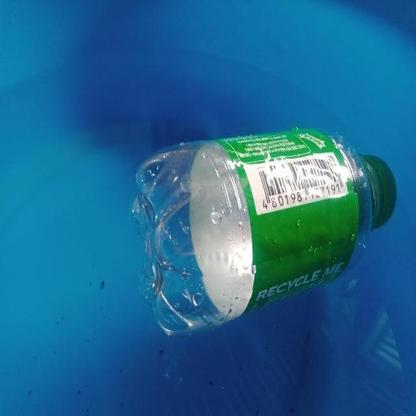plastic bottle: (129, 128, 404, 334)
